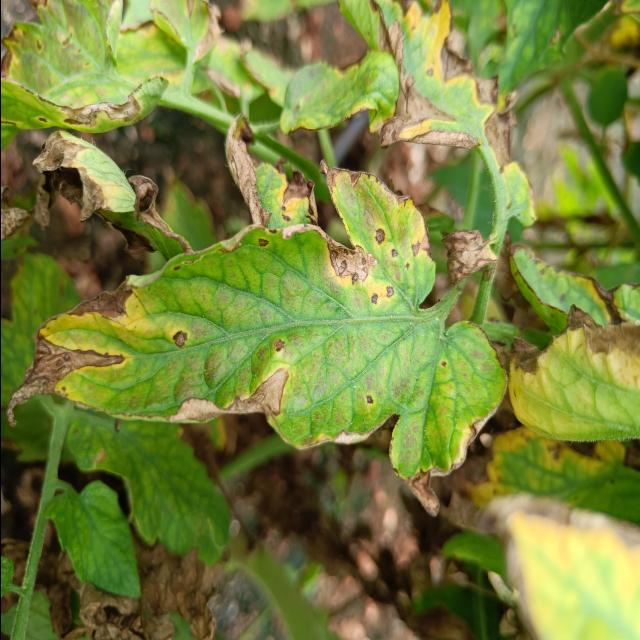Tomato mosaic virus leaf: (1, 219, 358, 457), (28, 129, 195, 269), (316, 156, 438, 312), (222, 107, 318, 233)
